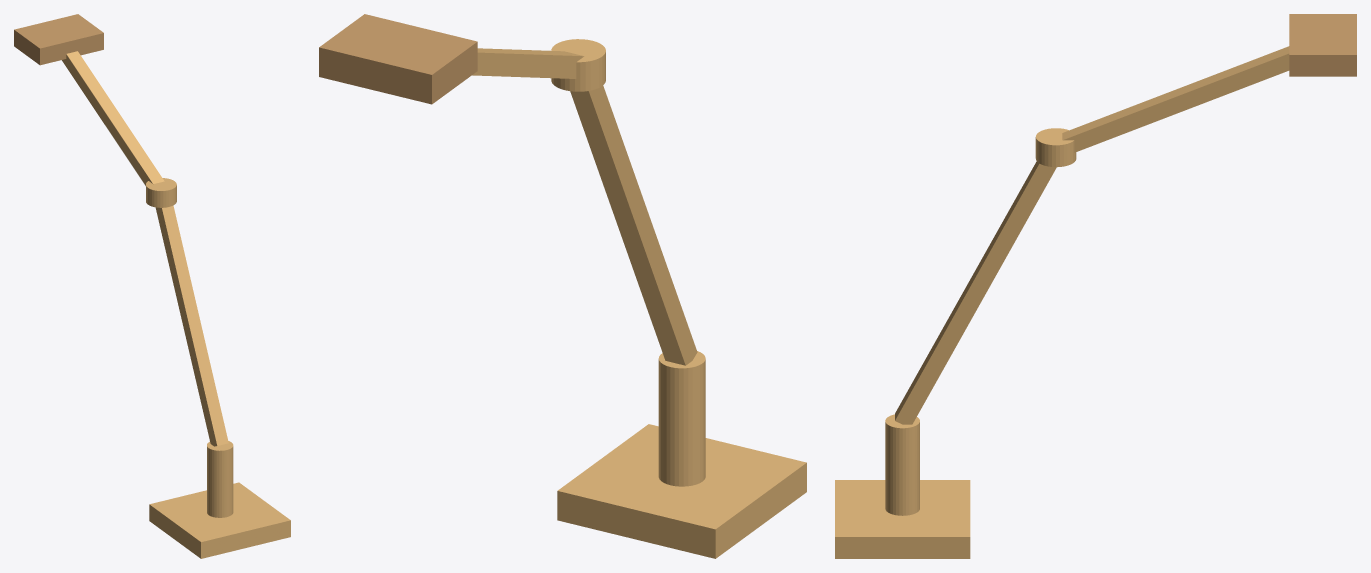
3 renders of one model, left to right at view 1: azimuth 30°, elevation 25°; view 2: azimuth 150°, elevation 25°; view 3: azimuth 270°, elevation 25°, orthographic. The views are drawn at different scales.
Visible parts, largest first — view 1: Base, LowerArm, Head, UpperArm, Stem, Joint; view 2: Base, Head, LowerArm, Stem, UpperArm, Joint; view 3: Base, LowerArm, UpperArm, Head, Stem, Joint.
Boxes of the visible parts, x1=… form: Base: x1=149, y1=482, x2=290, y2=558; LowerArm: x1=155, y1=205, x2=228, y2=446; Head: x1=14, y1=14, x2=103, y2=65; UpperArm: x1=62, y1=51, x2=164, y2=185; Stem: x1=207, y1=441, x2=233, y2=517; Joint: x1=146, y1=178, x2=176, y2=207; Base: x1=557, y1=424, x2=806, y2=558; Head: x1=319, y1=14, x2=477, y2=104; LowerArm: x1=570, y1=85, x2=697, y2=365; Stem: x1=658, y1=351, x2=705, y2=486; UpperArm: x1=472, y1=48, x2=584, y2=78; Joint: x1=551, y1=39, x2=605, y2=91; Base: x1=835, y1=480, x2=970, y2=558; LowerArm: x1=895, y1=161, x2=1056, y2=424; UpperArm: x1=1062, y1=46, x2=1289, y2=152; Head: x1=1289, y1=14, x2=1356, y2=76; Stem: x1=885, y1=414, x2=919, y2=515; Joint: x1=1035, y1=128, x2=1076, y2=167.
Size of the model in its own units: 0.14 by 0.5662 by 0.5401.
